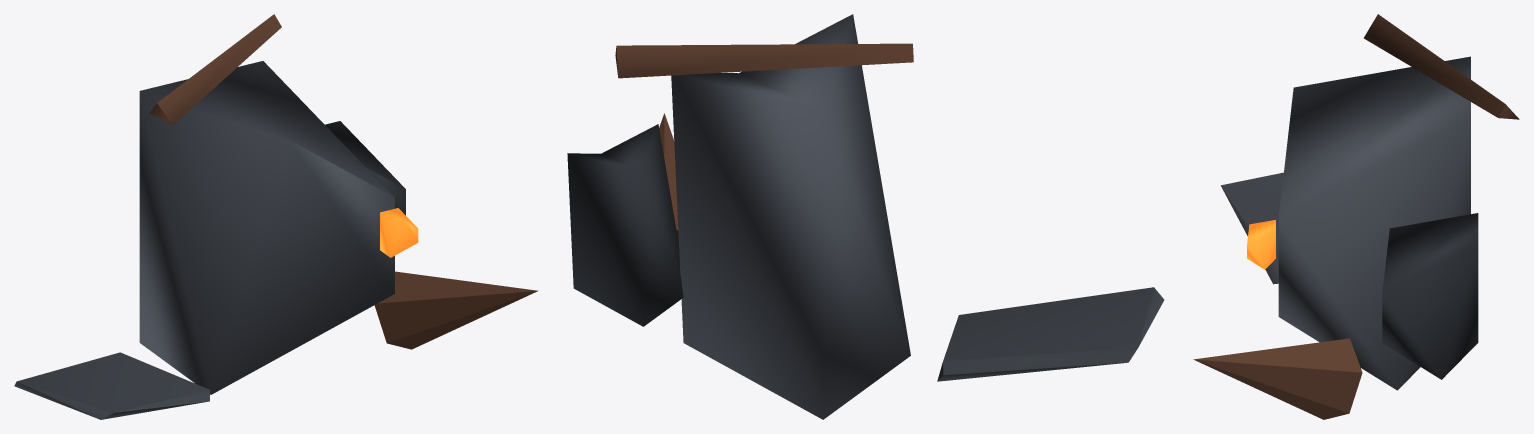
The model's file is drone_wreck_lod2.glb.
3 renders of one model, left to right at view 1: azimuth 30°, elevation 25°; view 2: azimuth 150°, elevation 25°; view 3: azimuth 270°, elevation 25°, orthographic. The views are drawn at different scales.
Visible parts, largest first — view 1: prop.drone_wreck; view 2: prop.drone_wreck; view 3: prop.drone_wreck.
Boxes of the visible parts, x1,y1,x2,y2 form: prop.drone_wreck: (14, 14, 538, 419); prop.drone_wreck: (567, 14, 1164, 419); prop.drone_wreck: (1193, 14, 1519, 419).
Bounding box in the file's own units: 1.07 × 0.6364 × 0.6472.
